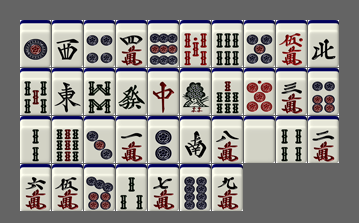0m: (276, 20, 307, 67)
0p: (244, 68, 275, 115)
0s: (180, 20, 211, 67)
1m: (116, 116, 147, 163)
1p: (20, 20, 51, 67)
1s: (180, 68, 211, 115)
1z: (52, 68, 83, 115)
2m: (308, 116, 339, 163)
2p: (148, 116, 179, 163)
2s: (20, 116, 51, 163)
2z: (180, 116, 211, 163)
3m: (276, 68, 307, 115)
3p: (84, 116, 115, 163)
3s: (116, 164, 147, 211)
3z: (52, 20, 83, 67)
4m: (116, 20, 147, 67)
4p: (84, 20, 115, 67)
4s: (276, 116, 307, 163)
4z: (308, 20, 339, 67)
5m: (52, 164, 83, 211)
5p: (244, 20, 275, 67)
5s: (20, 68, 51, 115)
5z: (244, 116, 275, 163)
6m: (20, 164, 51, 211)
6p: (308, 68, 339, 115)
6s: (212, 20, 243, 67)
6z: (116, 68, 147, 115)
7m: (148, 164, 179, 211)
7p: (84, 164, 115, 211)
7s: (212, 68, 243, 115)
7z: (148, 68, 179, 115)
8m: (212, 116, 243, 163)
8p: (180, 164, 211, 211)
8s: (84, 68, 115, 115)
9m: (212, 164, 243, 211)
9p: (148, 20, 179, 67)
9s: (52, 116, 83, 163)
